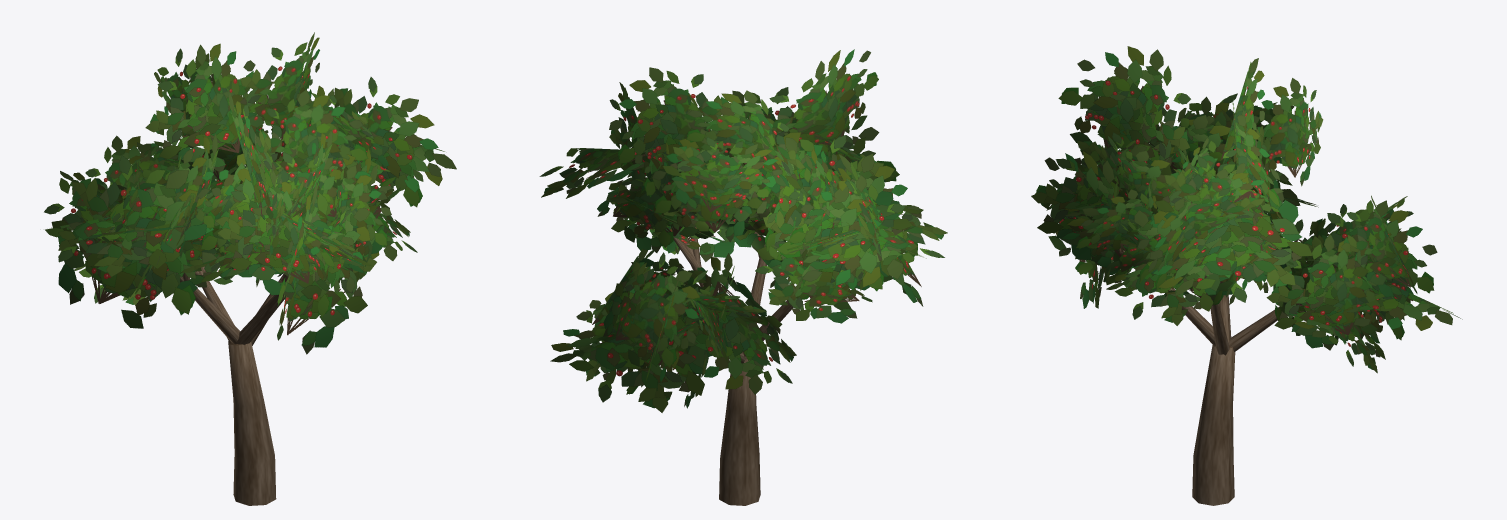
File: tree_orchard.glb
3 renders of one model, left to right at view 1: azimuth 30°, elevation 25°; view 2: azimuth 150°, elevation 25°; view 3: azimuth 270°, elevation 25°, orthographic. The views are drawn at different scales.
Parts seen in each view (by area): view 1: TreeOrchard_Foliage, TreeOrchard_Bark; view 2: TreeOrchard_Foliage, TreeOrchard_Bark; view 3: TreeOrchard_Foliage, TreeOrchard_Bark.
Boxes of the visible parts, bbox=[...] form: TreeOrchard_Foliage: bbox=[44, 32, 456, 354]; TreeOrchard_Bark: bbox=[176, 266, 288, 505]; TreeOrchard_Foliage: bbox=[539, 49, 947, 412]; TreeOrchard_Bark: bbox=[673, 226, 799, 505]; TreeOrchard_Foliage: bbox=[1031, 46, 1462, 373]; TreeOrchard_Bark: bbox=[1118, 248, 1302, 505].
Size of the model in its own units: 6.08 by 6.1 by 5.84.
Materials: 2 (2 with a texture image).
